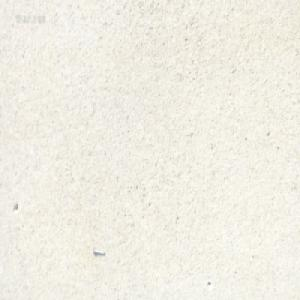Nail: (91, 246, 106, 256)
